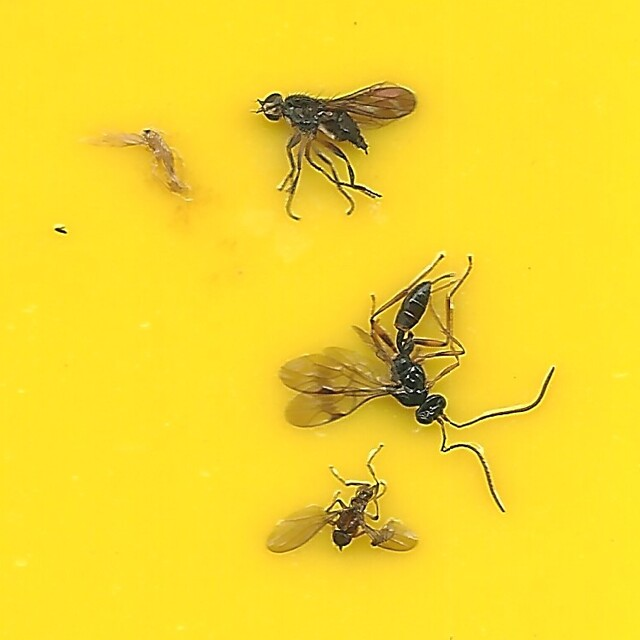Brachycera: (253, 80, 415, 221), (263, 445, 423, 560)
Hymenoptera: (278, 251, 556, 511)
Trichoptera: (84, 124, 194, 202)
